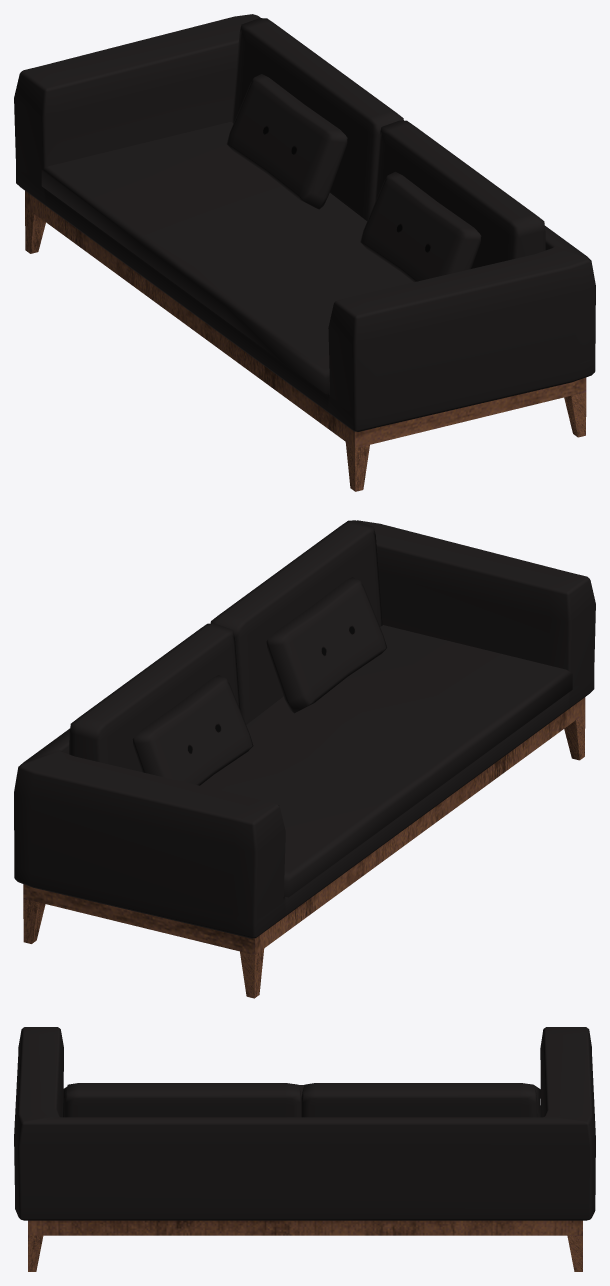
File: sohva_01.fbx
3 views of the same model, one above another, from view 1: azimuth 30°, elevation 25°; view 2: azimuth 150°, elevation 25°; view 3: azimuth 270°, elevation 25° (orthographic). The views are drawn at different scales.
Visible parts, largest first — view 1: sohva, tyyny_2, tyyny_1; view 2: sohva, tyyny_1, tyyny_2; view 3: sohva.
Boxes of the visible parts, box(x1,y1,x2,y2) form: sohva: box(14, 14, 595, 491); tyyny_2: box(226, 74, 347, 209); tyyny_1: box(360, 171, 481, 282); sohva: box(14, 520, 595, 998); tyyny_1: box(266, 577, 386, 713); tyyny_2: box(132, 675, 253, 785); sohva: box(14, 1027, 595, 1271).
Bounding box in the file's own units: 104 × 83.29 × 255.
